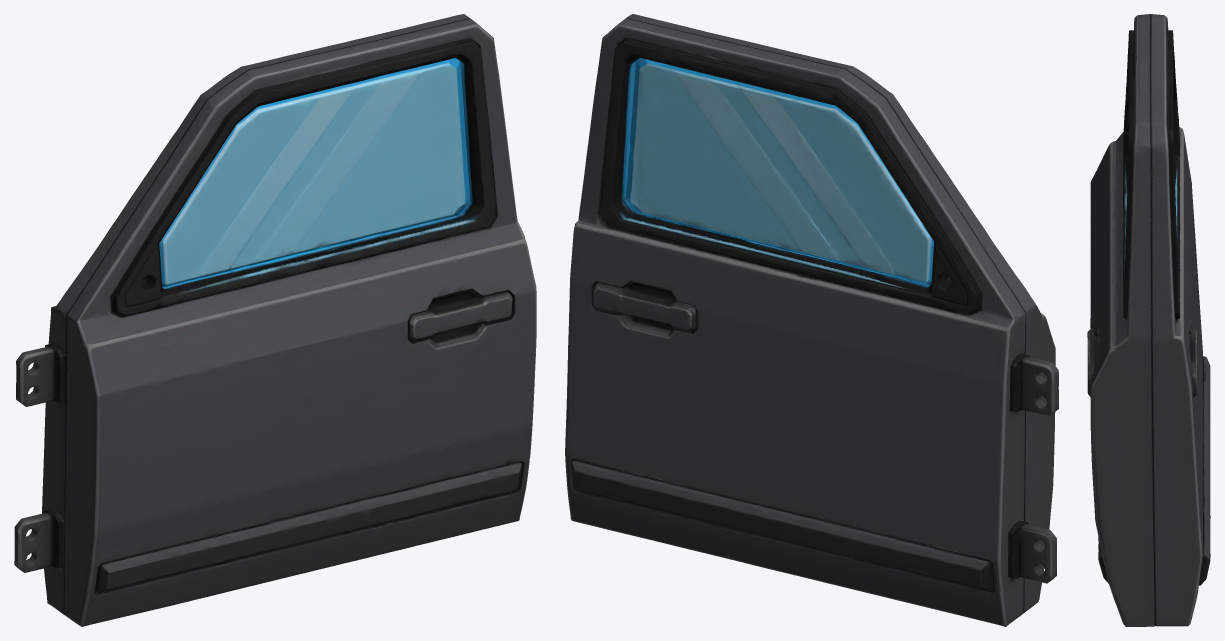
File: car_door_1k_real.glb
3 renders of one model, left to right at view 1: azimuth 30°, elevation 25°; view 2: azimuth 150°, elevation 25°; view 3: azimuth 270°, elevation 25°, orthographic. The views are drawn at different scales.
Parts seen in each view (by area): view 1: tripo_node_fb720922-25df-4980-bc99-d395603fdeb0; view 2: tripo_node_fb720922-25df-4980-bc99-d395603fdeb0; view 3: tripo_node_fb720922-25df-4980-bc99-d395603fdeb0.
Boxes of the visible parts, box(x1,y1,x2,y2) form: tripo_node_fb720922-25df-4980-bc99-d395603fdeb0: box(14, 14, 536, 626); tripo_node_fb720922-25df-4980-bc99-d395603fdeb0: box(565, 14, 1058, 626); tripo_node_fb720922-25df-4980-bc99-d395603fdeb0: box(1087, 14, 1210, 626).
Size of the model in its own units: 0.9965 by 1 by 0.2276.
Materials: 1 (1 with a texture image).
